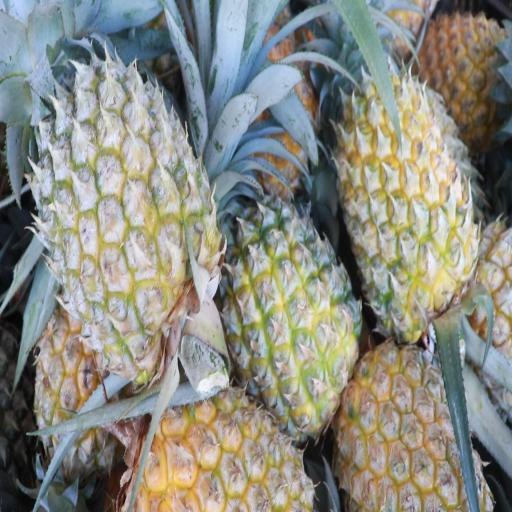------------------------------: (31, 66, 219, 352), (226, 190, 357, 411), (34, 318, 122, 481)
Pineapple - v8 v1: (342, 78, 471, 312), (343, 349, 482, 512), (133, 391, 315, 512), (422, 0, 511, 130)
